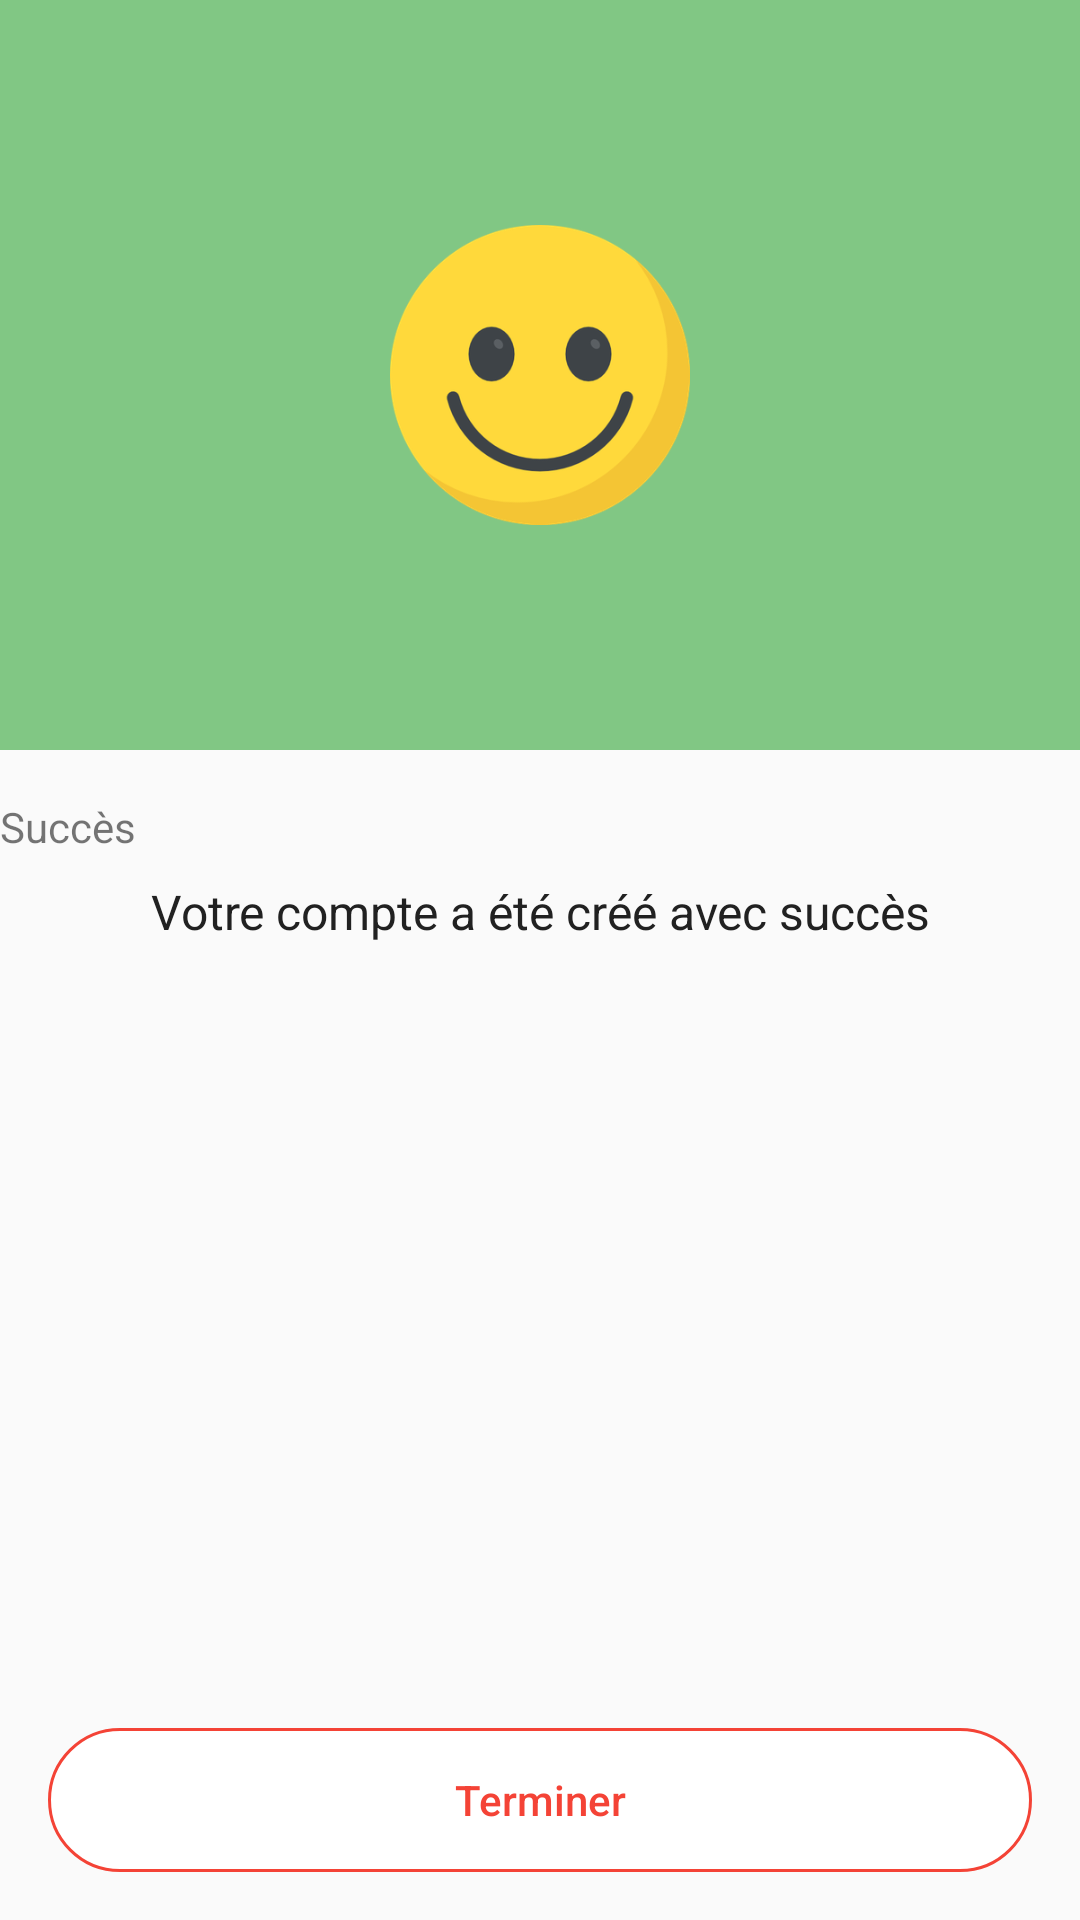

Point at icon controls on the screen. Image size 1080 x 1920, points as [x,y].
Icône succès: [540,375]
